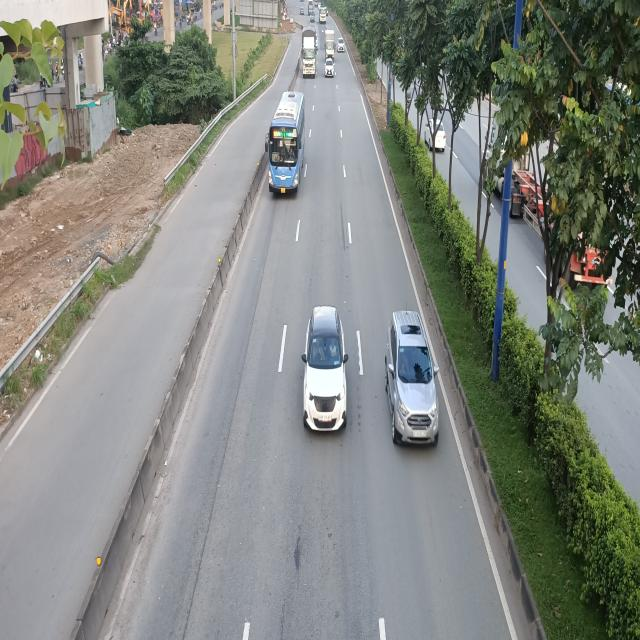car: (386, 308, 439, 446), (303, 306, 350, 432)
coach: (266, 91, 308, 195)
truck: (301, 30, 317, 80)
